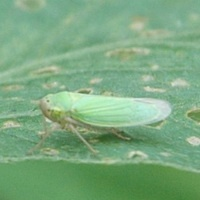insect: (40, 91, 170, 154)
